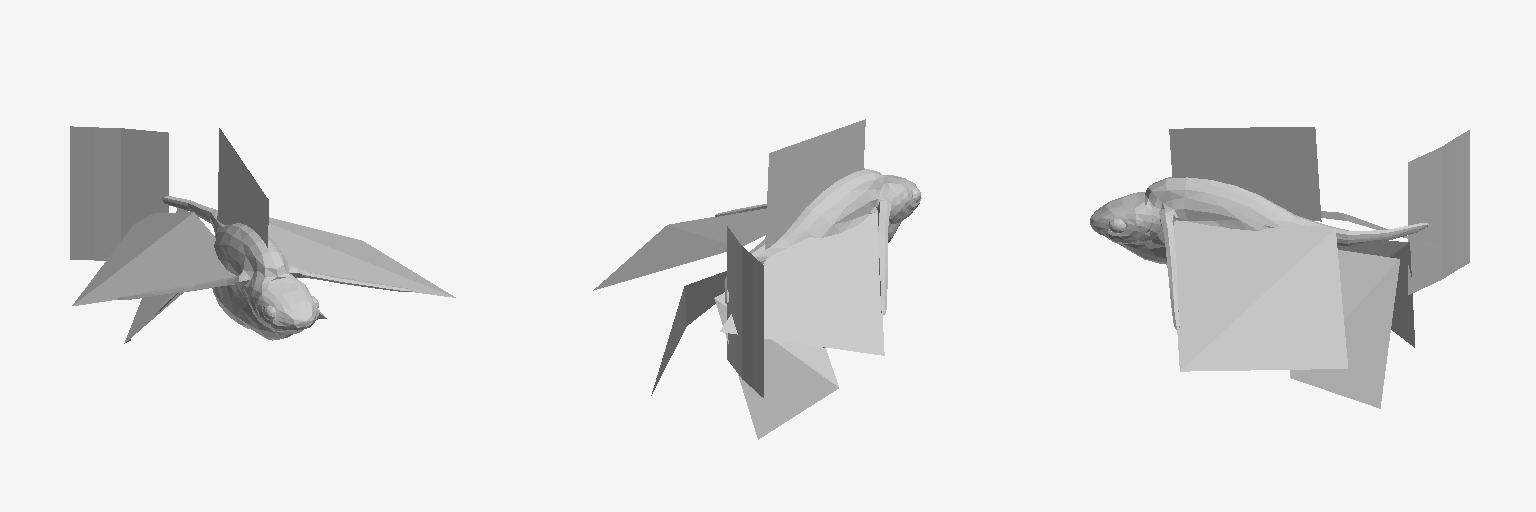
The model's file is fish_000020.obj.
3 views of the same model, side by side, from view 1: azimuth 30°, elevation 25°; view 2: azimuth 150°, elevation 25°; view 3: azimuth 270°, elevation 25° (orthographic).
Visible parts, largest first — view 1: flyingFish_low_StingrayPBS1_0; view 2: flyingFish_low_StingrayPBS1_0; view 3: flyingFish_low_StingrayPBS1_0.
Boxes of the visible parts, <box> form: flyingFish_low_StingrayPBS1_0: <box>70,126,455,343</box>; flyingFish_low_StingrayPBS1_0: <box>593,119,921,439</box>; flyingFish_low_StingrayPBS1_0: <box>1090,127,1469,408</box>.
Bounding box in the file's own units: 16.87 × 12.88 × 18.46.